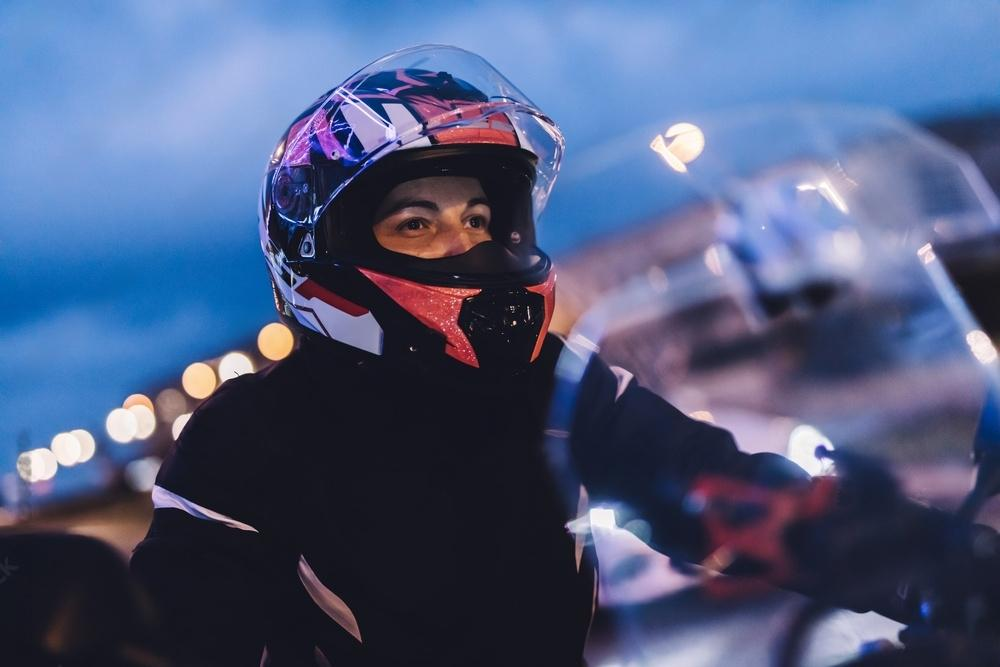helmet: (256, 42, 567, 386)
